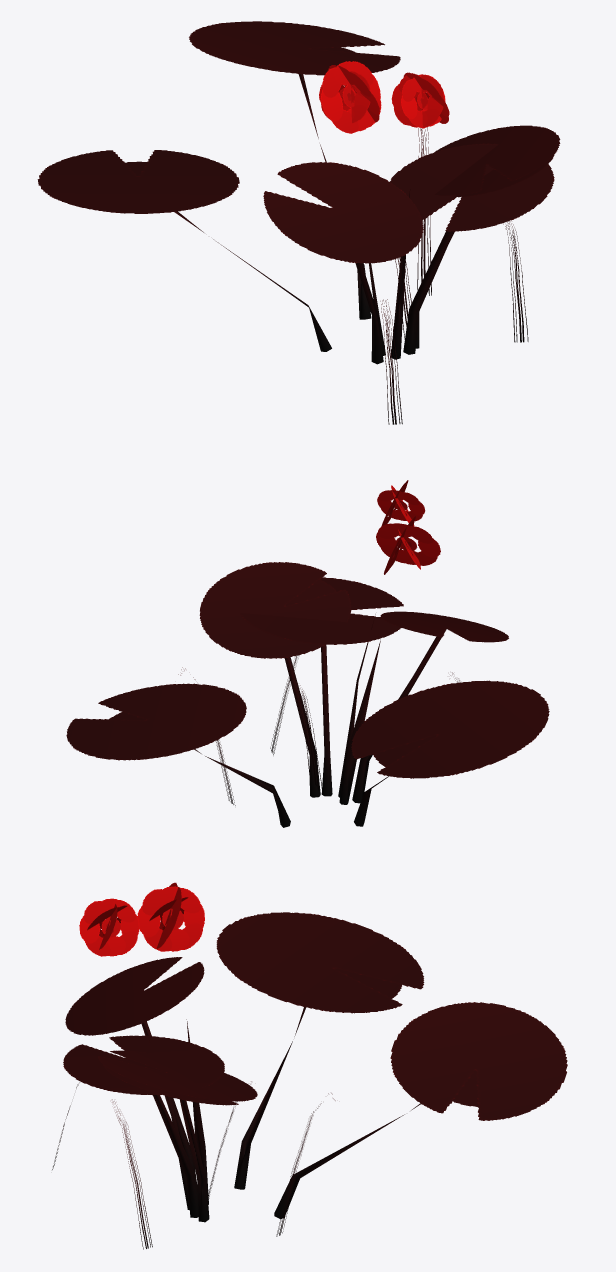
Rendered from plant_swamp_lily_a_lod2.glb.
3 views of the same model, one above another, from view 1: azimuth 30°, elevation 25°; view 2: azimuth 150°, elevation 25°; view 3: azimuth 270°, elevation 25° (orthographic). The views are drawn at different scales.
Parts seen in each view (by area): view 1: plant_swamp_lily_a; view 2: plant_swamp_lily_a; view 3: plant_swamp_lily_a.
Part boxes in pixels (x1=…): plant_swamp_lily_a: x1=37, y1=21, x2=560, y2=424; plant_swamp_lily_a: x1=66, y1=480, x2=549, y2=827; plant_swamp_lily_a: x1=52, y1=882, x2=567, y2=1249.
Size of the model in its own units: 0.5614 by 0.3477 by 0.5944.
Materials: 1 (1 with a texture image).
